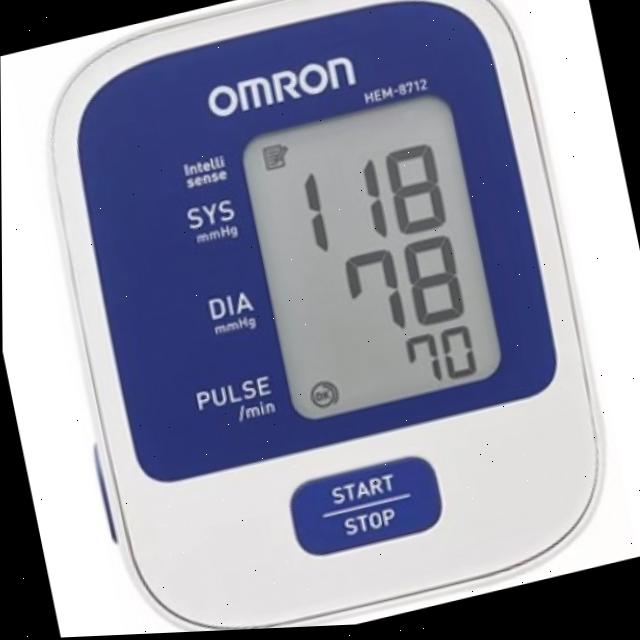dia: (339, 225, 472, 347)
pul: (398, 324, 486, 403)
ssd: (239, 97, 505, 425)
sys: (288, 137, 458, 262)
